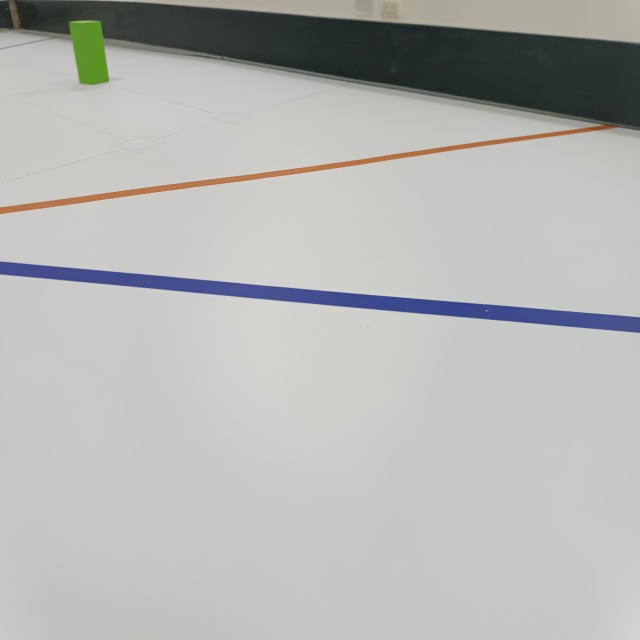blue line: (0, 258, 637, 334)
green rectangular prism: (66, 20, 113, 87)
orange line: (0, 119, 620, 214)
